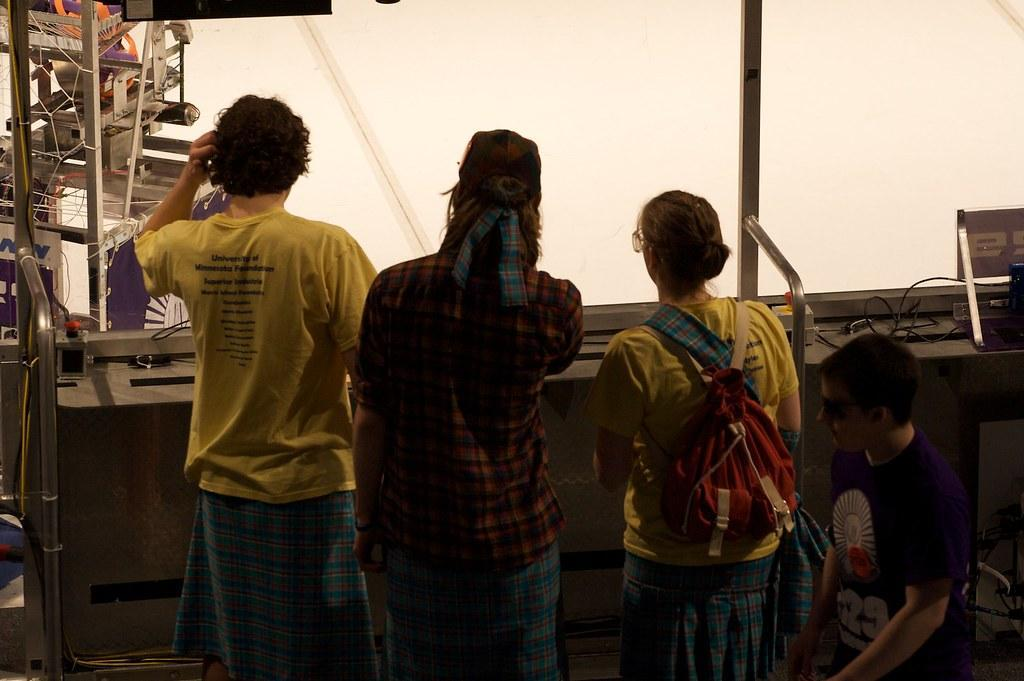robot: (0, 0, 233, 209)
